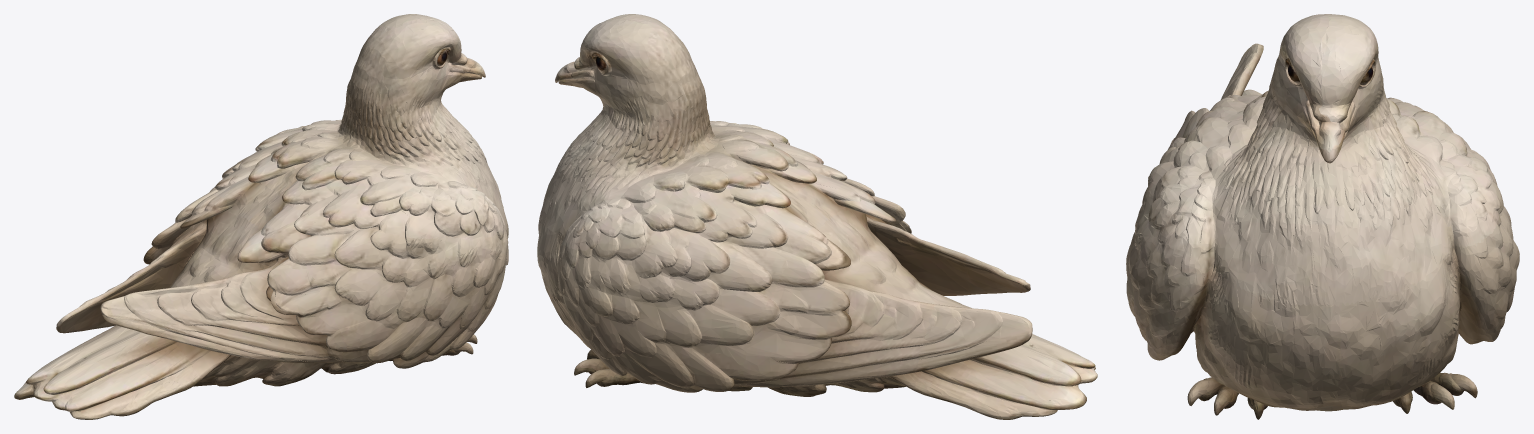
The model's file is dove-rest.glb.
The picture shows the model from 3 angles, left to right: view 1: azimuth 30°, elevation 25°; view 2: azimuth 150°, elevation 25°; view 3: azimuth 270°, elevation 25°; orthographic projection. The views are drawn at different scales.
Parts seen in each view (by area): view 1: meshes[0]; view 2: meshes[0]; view 3: meshes[0].
Part boxes in pixels (bbox=[...]): meshes[0]: bbox=[14, 14, 508, 419]; meshes[0]: bbox=[537, 14, 1097, 419]; meshes[0]: bbox=[1126, 14, 1519, 419].
Bounding box in the file's own units: 0.4317 × 0.2608 × 0.2359.
Materials: 1 (1 with a texture image).
